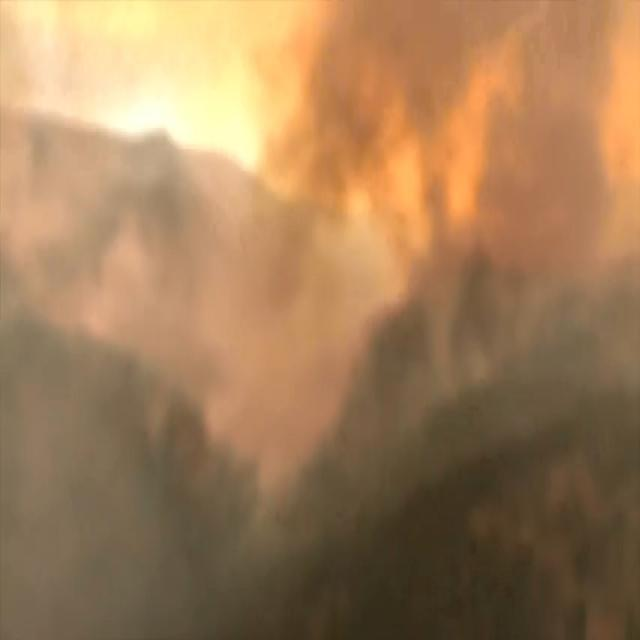Fire: (254, 0, 640, 303)
